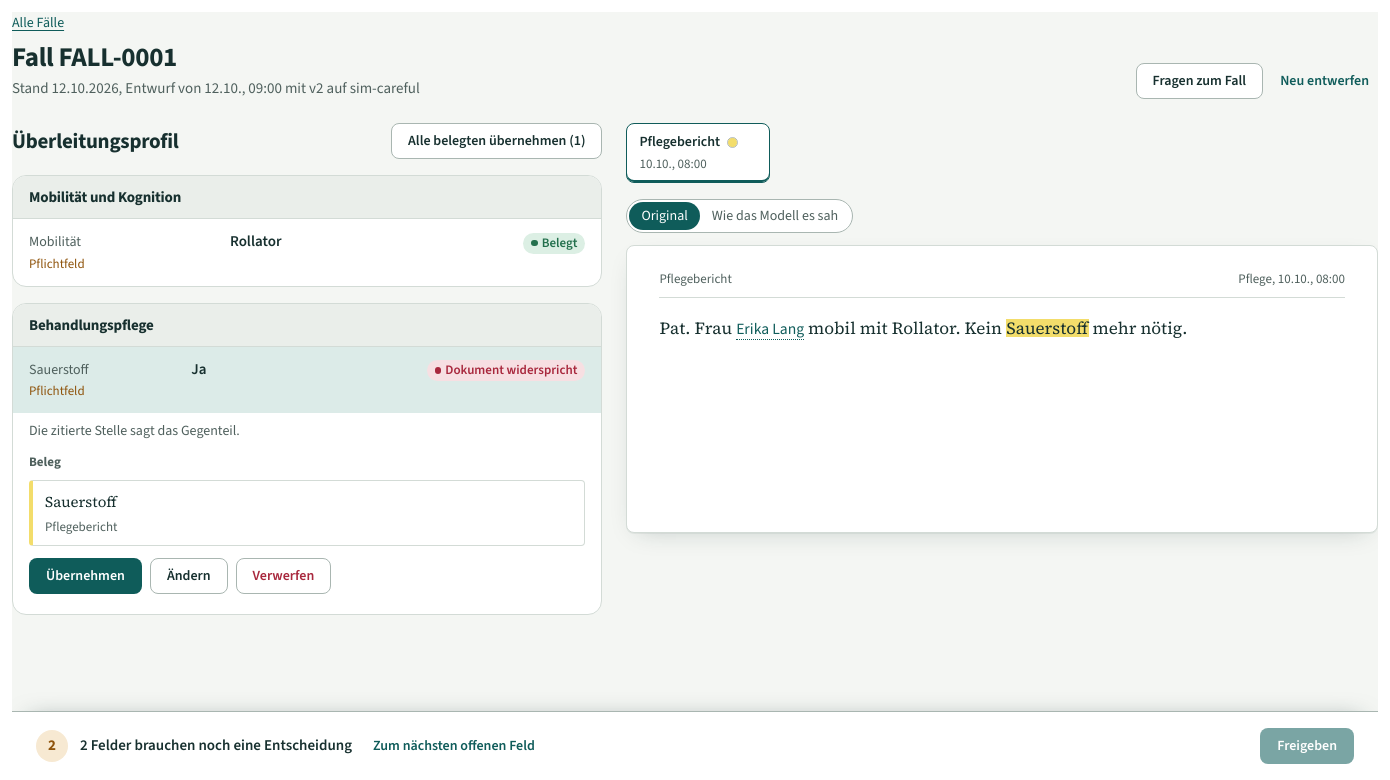
Test: review workspace › shows what the model saw when asked
The image size is (1390, 780).
Click the radio button labelled "Wie das Modell es sah". click: [775, 216]
box: [700,202,850,230]
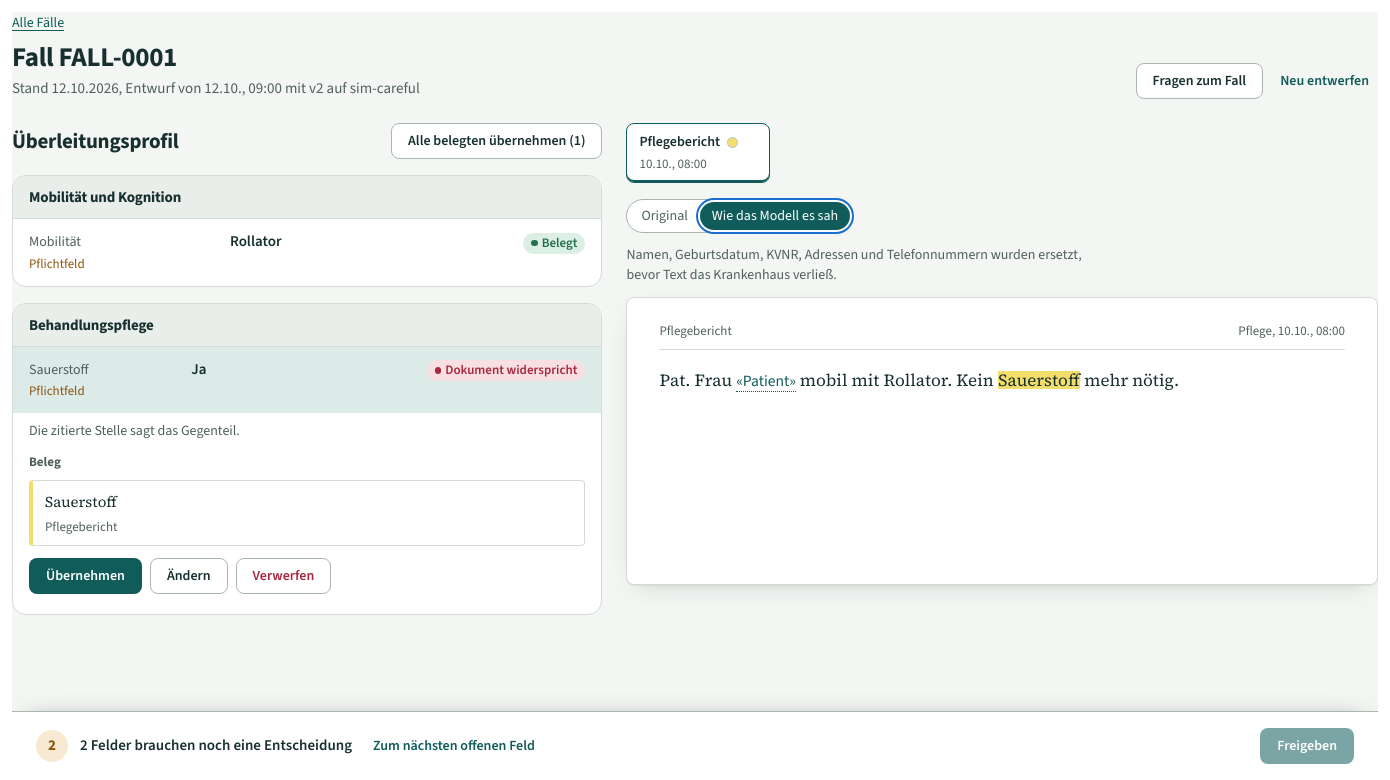
Expected: the text "«Patient»" is shown, [736,370,796,392]
Now the text "Erika Lang" is gone
